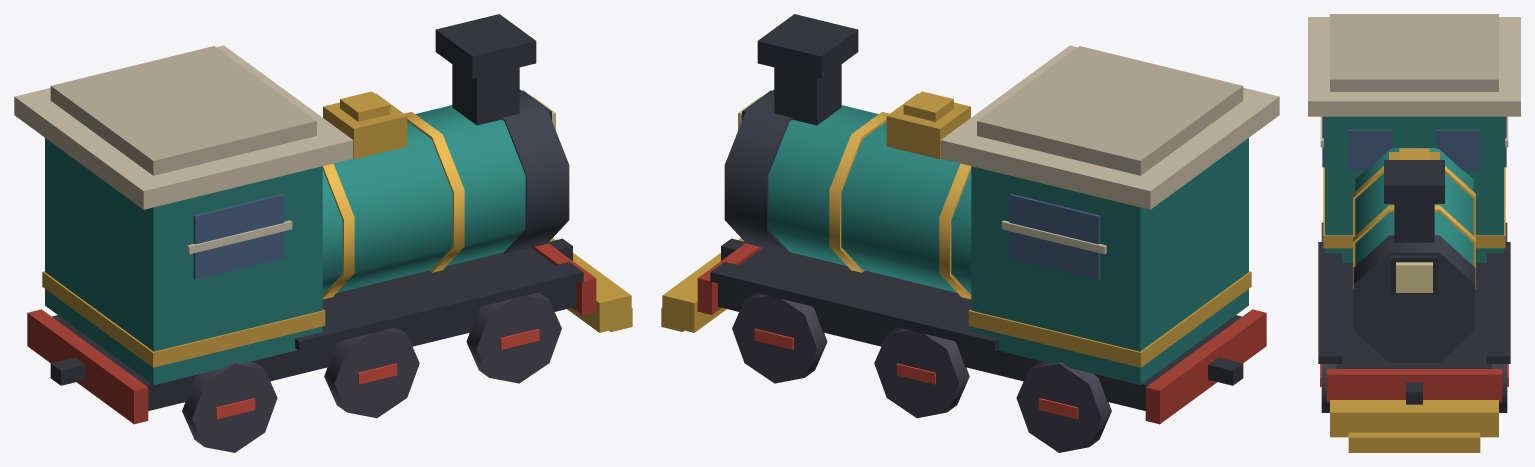
Rendered from car_00.glb.
The picture shows the model from 3 angles, left to right: view 1: azimuth 30°, elevation 25°; view 2: azimuth 150°, elevation 25°; view 3: azimuth 270°, elevation 25°; orthographic projection. The views are drawn at different scales.
Parts seen in each view (by area): view 1: car_00, Wheel1, Wheel5, Wheel3; view 2: car_00, Wheel0, Wheel4, Wheel2; view 3: car_00, Wheel4, Wheel5.
Part boxes in pixels (x1,y1,x2,y2): car_00: (14,14,632,424); Wheel1: (182,361,277,452); Wheel5: (466,292,561,383); Wheel3: (324,327,419,418); car_00: (661,14,1279,424); Wheel0: (1016,361,1111,452); Wheel4: (732,292,827,383); Wheel2: (874,327,969,418); car_00: (1308,14,1520,452); Wheel4: (1492,364,1508,412); Wheel5: (1320,364,1336,412).
Bounding box in the file's own units: 3.02 × 1.65 × 1.26.
